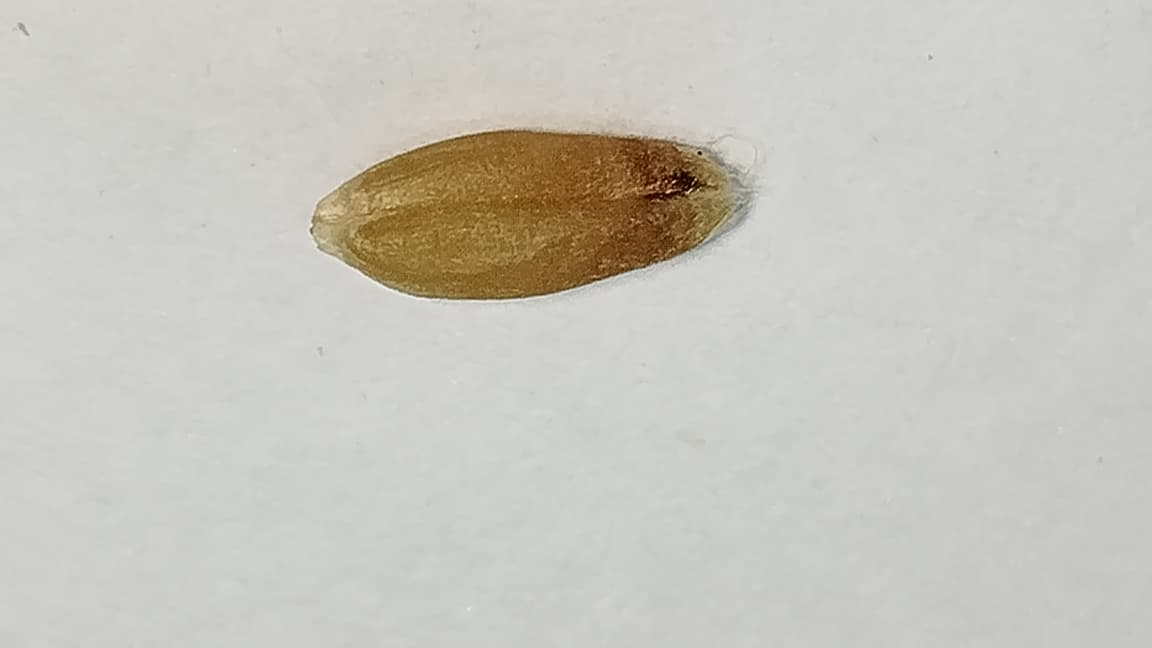black_point: (639, 145, 721, 226)
healthy: (312, 131, 733, 297)
